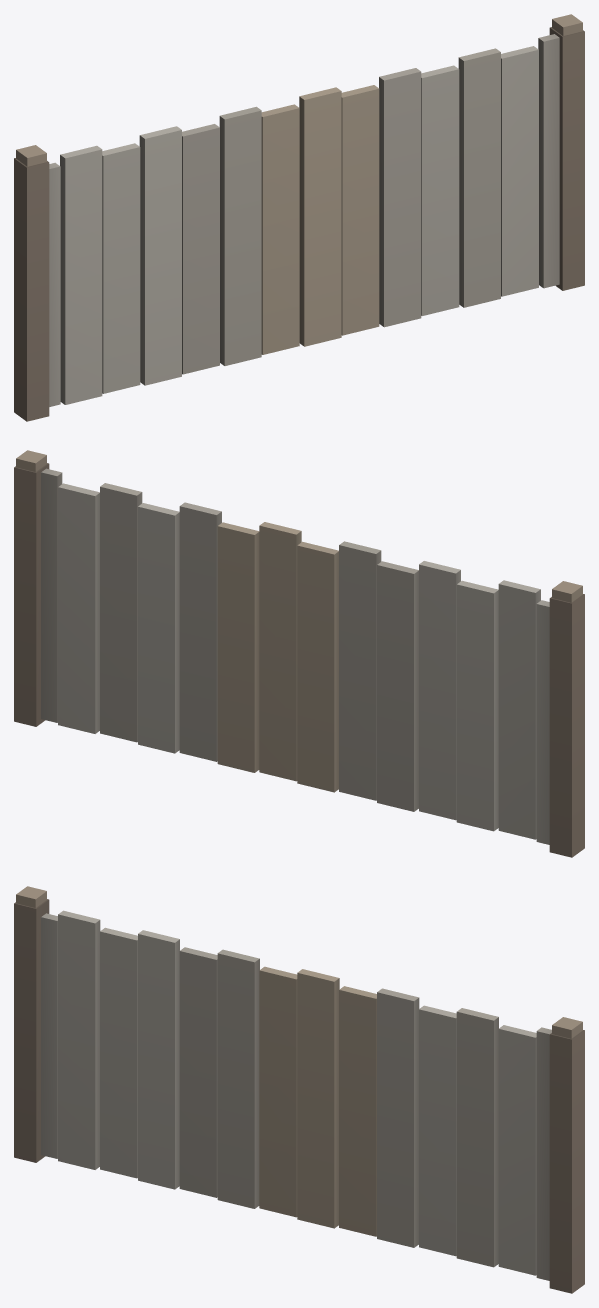
File: fence.lod1.glb
3 views of the same model, one above another, from view 1: azimuth 30°, elevation 25°; view 2: azimuth 150°, elevation 25°; view 3: azimuth 330°, elevation 25° (orthographic).
Size of the model in its own units: 4 by 1.8 by 0.16.
